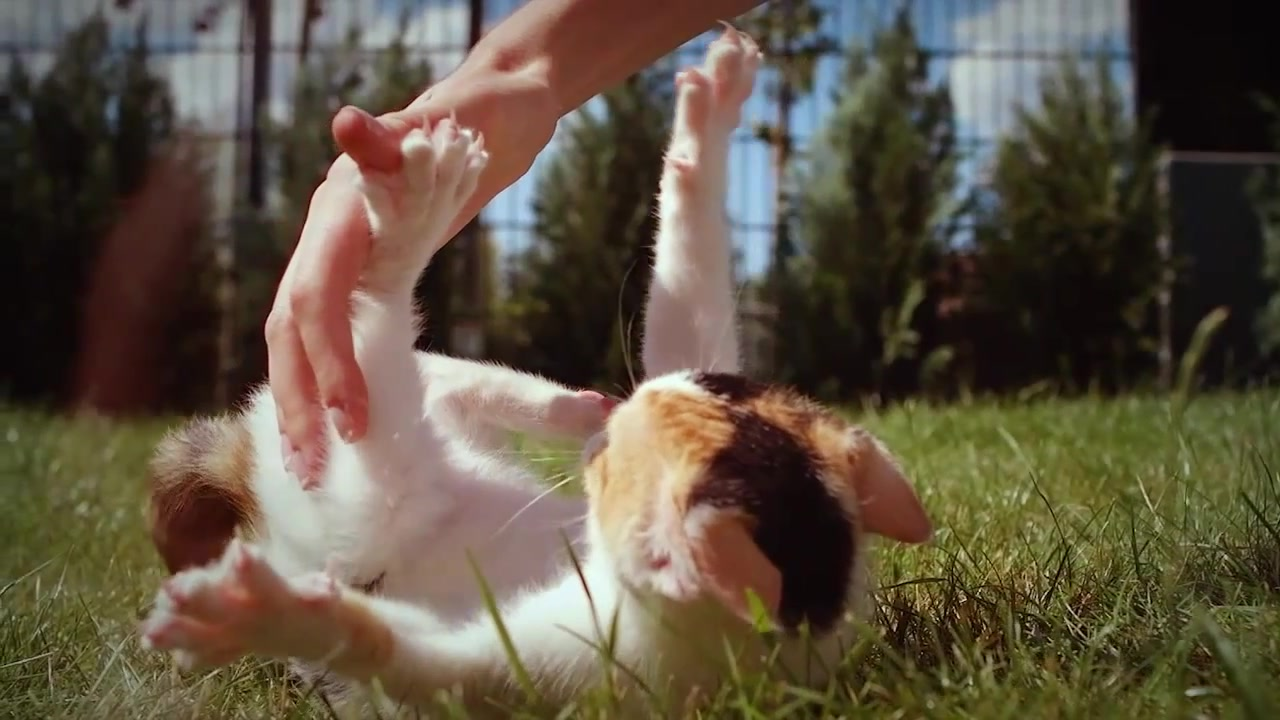cat: (141, 18, 940, 718)
